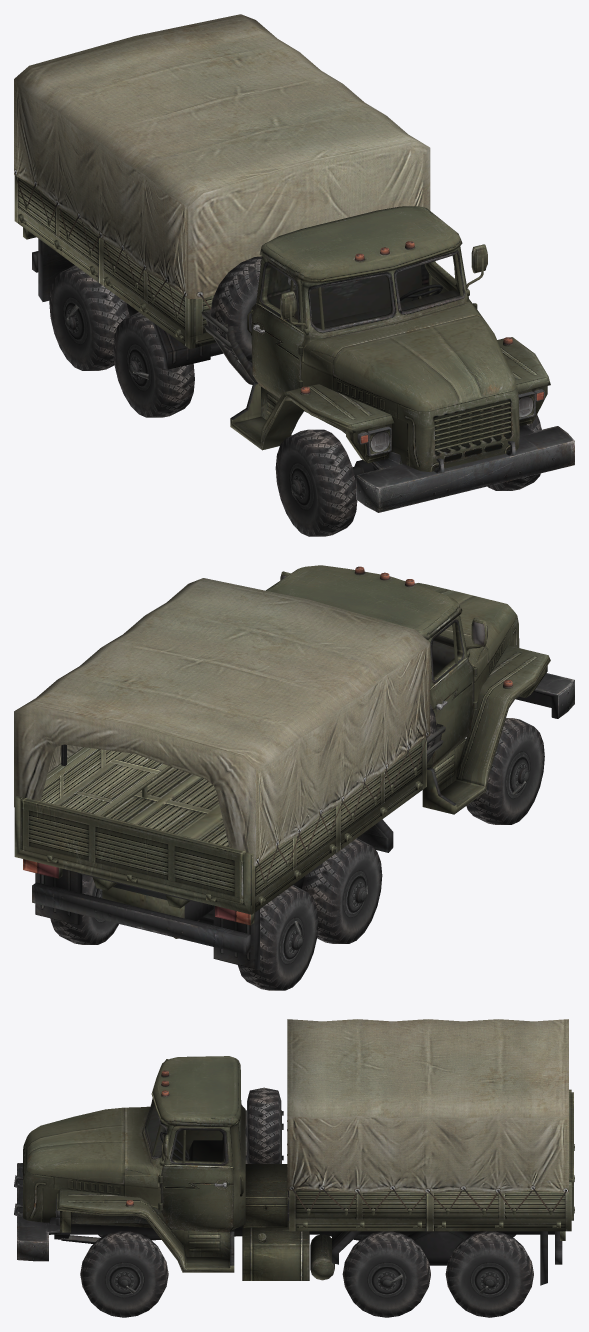
Rendered from Ural4320_1.fbx.
3 views of the same model, one above another, from view 1: azimuth 30°, elevation 25°; view 2: azimuth 150°, elevation 25°; view 3: azimuth 270°, elevation 25° (orthographic). The views are drawn at different scales.
Visible parts, largest first — view 1: ural4320; view 2: ural4320; view 3: ural4320.
Boxes of the visible parts, box(x1,y1,x2,y2) form: ural4320: box(14, 14, 574, 536); ural4320: box(14, 565, 574, 990); ural4320: box(14, 1019, 574, 1317).
Bounding box in the file's own units: 306 × 327 × 757.
